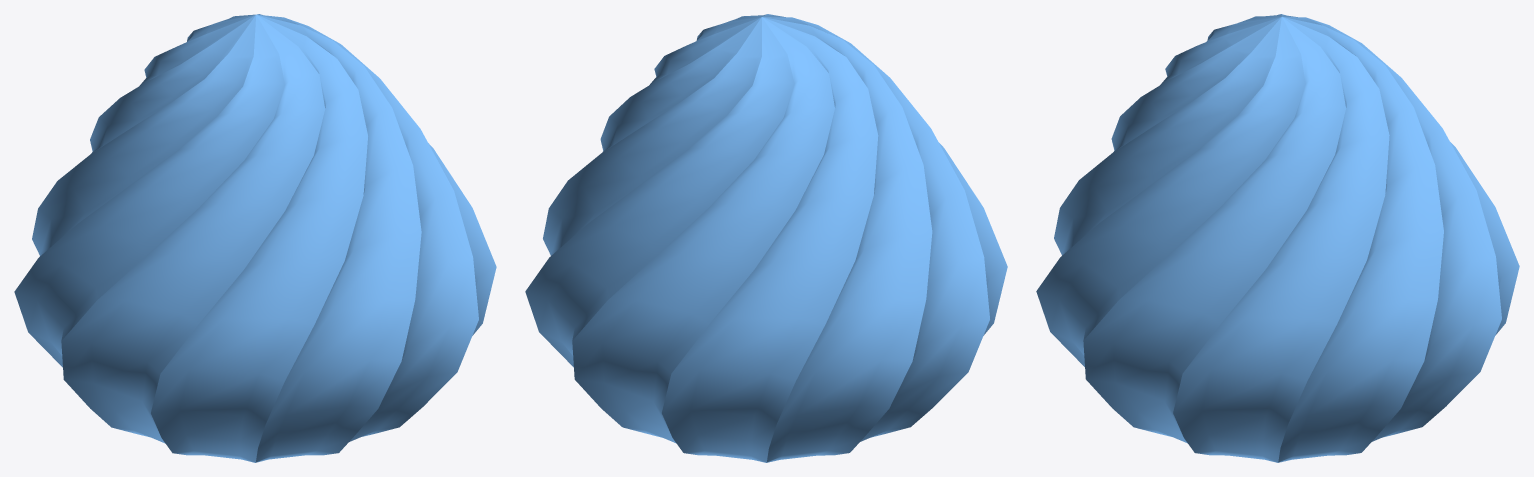
Rendered from Ice Cream Spiral B Blue.fbx.
3 views of the same model, side by side, from view 1: azimuth 30°, elevation 25°; view 2: azimuth 150°, elevation 25°; view 3: azimuth 270°, elevation 25° (orthographic).
Visible parts, largest first — view 1: Ice Cream Spiral B Blue; view 2: Ice Cream Spiral B Blue; view 3: Ice Cream Spiral B Blue.
Boxes of the visible parts, x1,y1,x2,y2 form: Ice Cream Spiral B Blue: (14,14,496,462); Ice Cream Spiral B Blue: (525,14,1007,462); Ice Cream Spiral B Blue: (1036,14,1519,462).
Bounding box in the file's own units: 0.4173 × 0.3732 × 0.4173.
